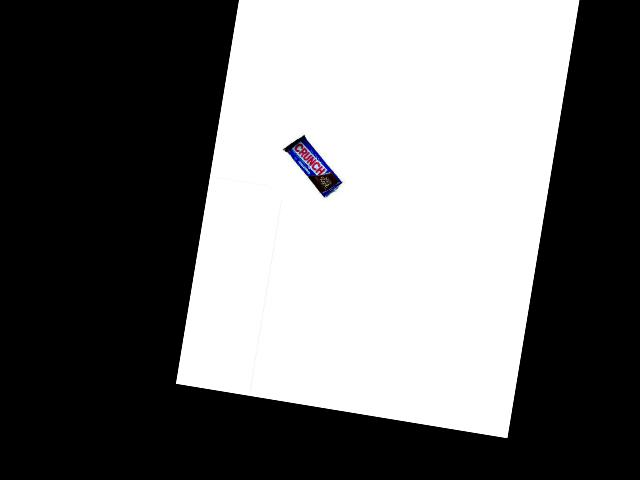chocolate: (275, 131, 350, 201)
